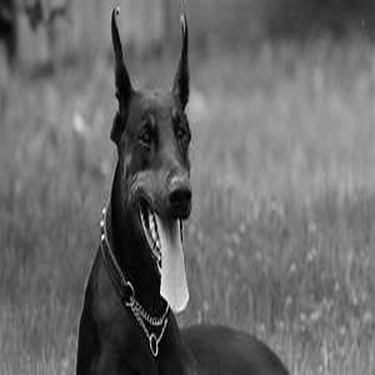dog: (57, 1, 301, 374)
